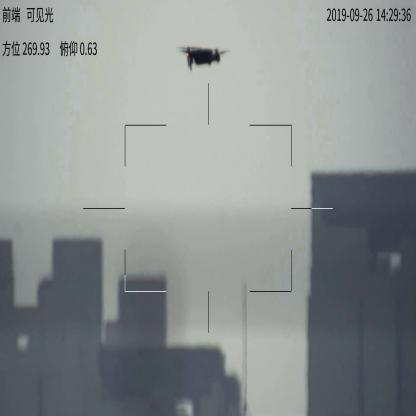uav: (180, 44, 230, 72)
